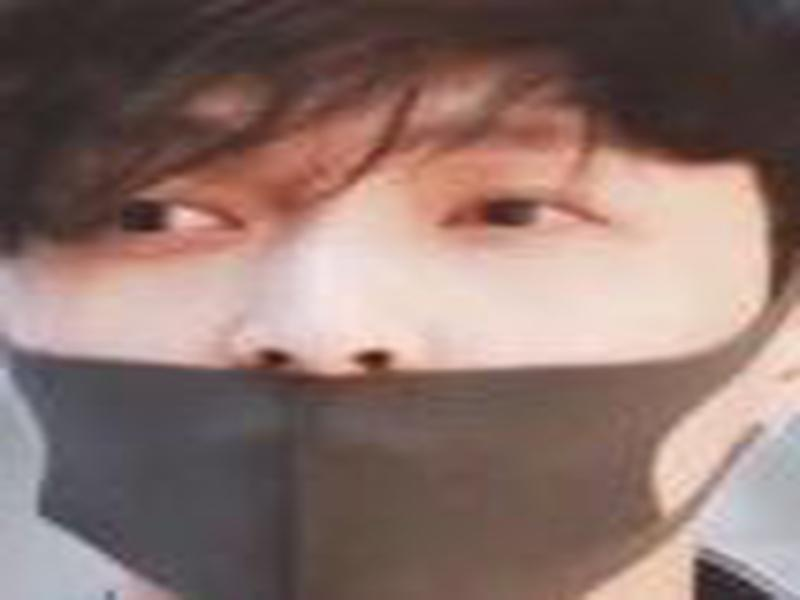with_mask: (1, 36, 800, 600)
